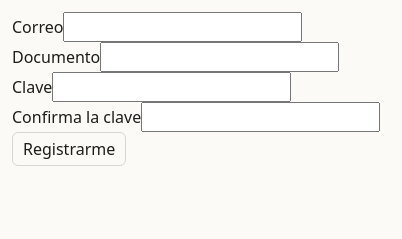
Scenario: punto 2: un formulario, como lo usa una persona › un error del servidor se muestra junto a su campo
Type "ana@correo.example" into the field labelled "Correo" at (183, 27), box [63, 12, 302, 42]
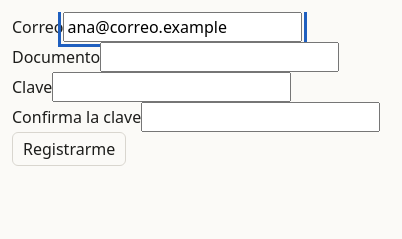
Type "1012345" into the field labelled "Documento" at (220, 57), box [100, 42, 339, 72]
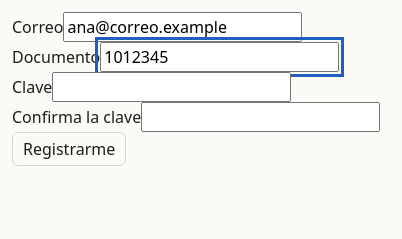
Type "una-clave-larga-1" into the password field labelled "Clave" at (172, 87), box [52, 72, 291, 102]
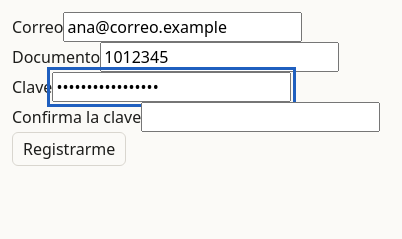
Type "una-clave-larga-1" into the password field labelled "Confirma la clave" at (261, 117), box [141, 102, 380, 132]
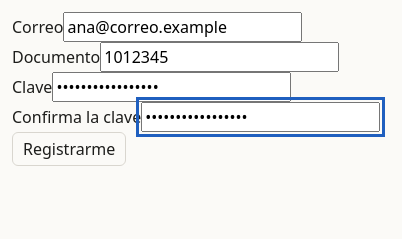
Click the button "Registrarme" at (69, 149), box [12, 132, 126, 166]
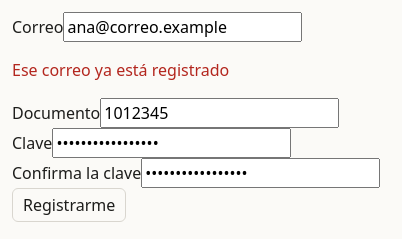
Expected: the text "Ese correo ya está registrado" is shown, [12, 59, 229, 81]
